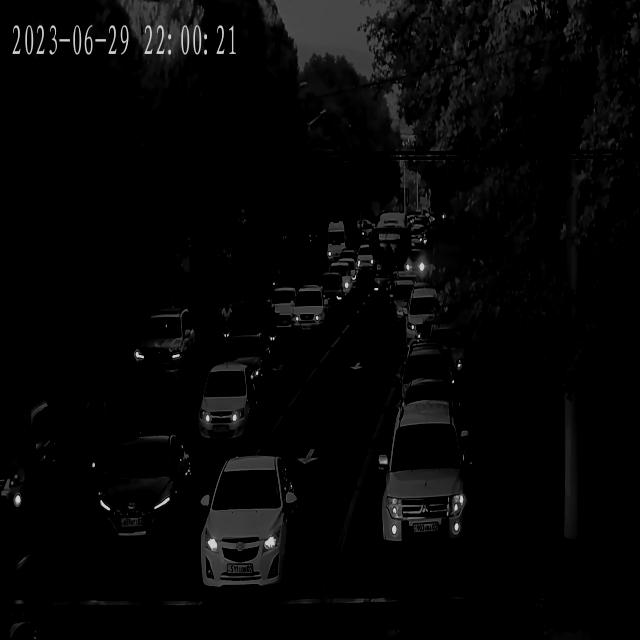Bus: (372, 212, 413, 304), (327, 222, 346, 265)
Car: (384, 403, 471, 572), (202, 455, 300, 602), (98, 432, 194, 558), (0, 401, 60, 533), (135, 308, 198, 394), (398, 349, 458, 429), (200, 364, 257, 445), (222, 337, 272, 410), (427, 326, 471, 391), (292, 287, 330, 348), (404, 294, 441, 346), (390, 280, 423, 333), (319, 272, 349, 323), (270, 283, 297, 337), (327, 263, 354, 306), (405, 249, 427, 280), (358, 244, 374, 274), (411, 226, 425, 248), (361, 221, 374, 243)
